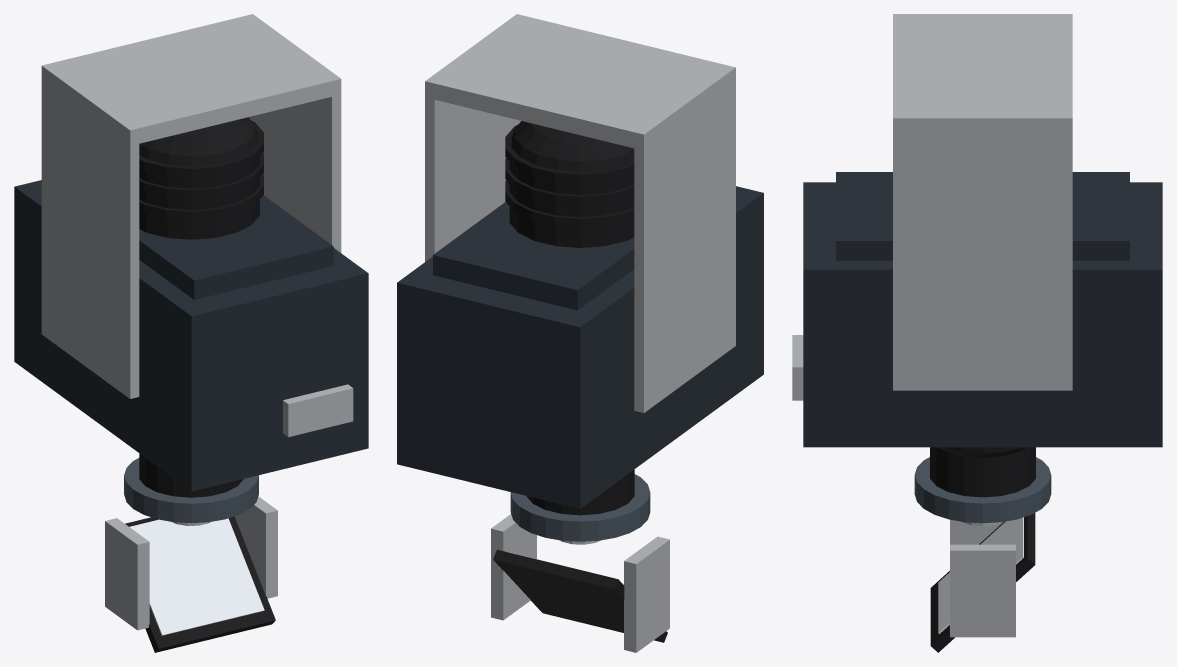
Rendered from scanner-compact-no-clamp.glb.
3 renders of one model, left to right at view 1: azimuth 30°, elevation 25°; view 2: azimuth 150°, elevation 25°; view 3: azimuth 270°, elevation 25°, orthographic. The views are drawn at different scales.
Parts seen in each view (by area): view 1: scanner-chassis, hanging-frame, optics-house, head-mirror, yoke-cheeks, lens-ring, head-mirror-back, chassis-display, optics-nose; view 2: scanner-chassis, hanging-frame, optics-house, yoke-cheeks, head-mirror-back, lens-ring, optics-nose; view 3: hanging-frame, scanner-chassis, yoke-cheeks, optics-nose, lens-ring, head-mirror-back, head-mirror, chassis-display.
Boxes of the visible parts, box(x1,y1,x2,y2) form: scanner-chassis: box(14, 180, 368, 491); hanging-frame: box(41, 14, 341, 398); optics-house: box(139, 117, 263, 239); head-mirror: box(129, 518, 264, 635); yoke-cheeks: box(105, 496, 277, 630); lens-ring: box(124, 458, 258, 523); head-mirror-back: box(125, 516, 275, 652); chassis-display: box(283, 384, 353, 437); optics-nose: box(139, 453, 243, 497); scanner-chassis: box(397, 186, 763, 508); hanging-frame: box(425, 14, 735, 412); optics-house: box(505, 121, 634, 247); yoke-cheeks: box(491, 514, 669, 652); head-mirror-back: box(493, 549, 667, 642); lens-ring: box(510, 474, 650, 541); optics-nose: box(526, 469, 634, 515); hanging-frame: box(893, 14, 1072, 390); scanner-chassis: box(803, 172, 1162, 447); yoke-cheeks: box(950, 519, 1015, 637); optics-nose: box(930, 447, 1035, 497); lens-ring: box(914, 457, 1051, 523); head-mirror-back: box(930, 513, 1035, 652); head-mirror: box(938, 517, 1023, 633); chassis-display: box(792, 335, 803, 400).
Bounding box in the file's own units: 0.2271 × 0.5653 × 0.34.
